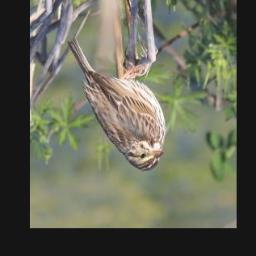Sparrow: (67, 37, 167, 173)
